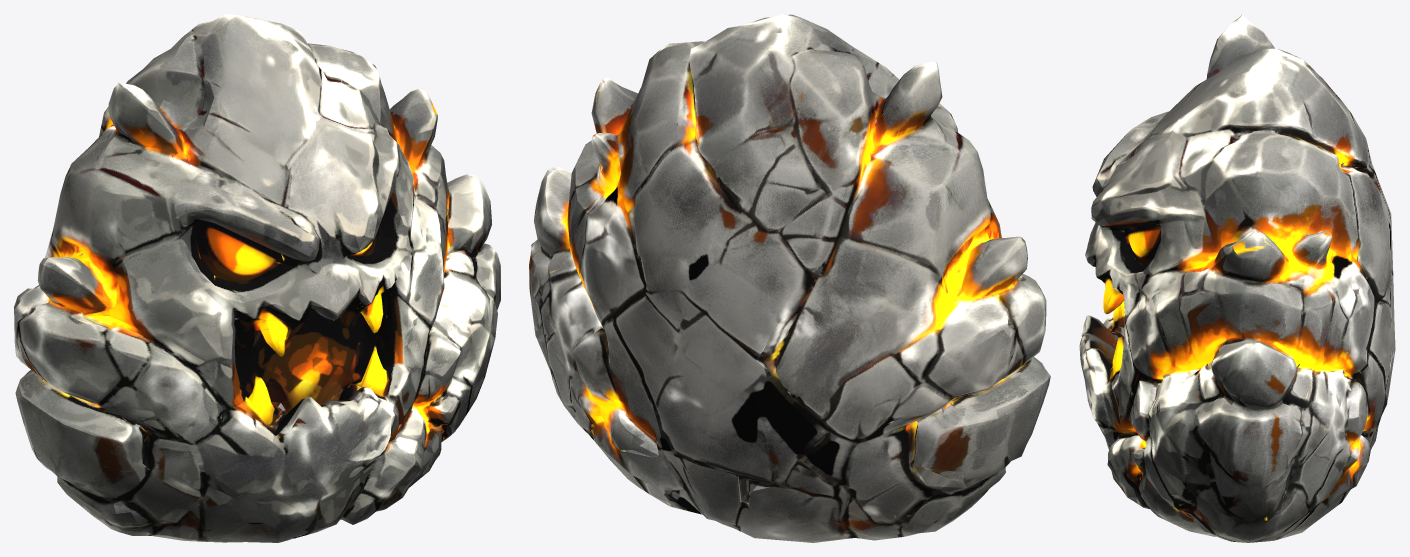
File: rock.glb
3 renders of one model, left to right at view 1: azimuth 30°, elevation 25°; view 2: azimuth 150°, elevation 25°; view 3: azimuth 270°, elevation 25°, orthographic. The views are drawn at different scales.
Visible parts, largest first — view 1: Mesh0; view 2: Mesh0; view 3: Mesh0.
Boxes of the visible parts, left/top/right/bottom form: Mesh0: left=14, top=14, right=500, bottom=542; Mesh0: left=529, top=14, right=1050, bottom=542; Mesh0: left=1079, top=14, right=1395, bottom=542.
Bounding box in the file's own units: 1.9 × 1.81 × 1.21.
1 material, 1 textured.
